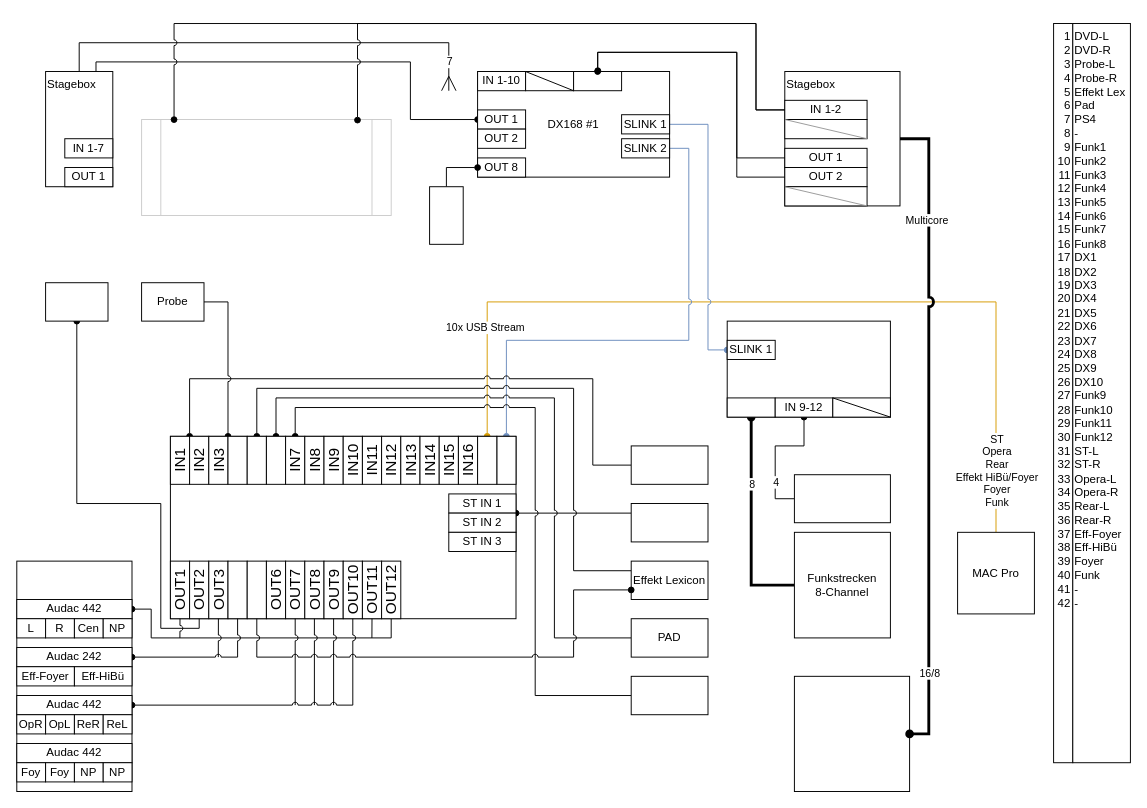
This 1147x808 diagram has some shape labels left out. The box of each missing label's shape, as (x1, y1, x2, y2) in pixels:
Allen&Heath SQ5: (169, 435, 516, 619)
Bass: (45, 282, 108, 321)
Bühne: (141, 119, 391, 216)
CD1 CD2: (630, 503, 708, 542)
DVD: (630, 445, 708, 484)
DX168 #2: (726, 320, 890, 417)
Endstufen: (16, 560, 132, 792)
Funk: (429, 186, 463, 244)
Funkstrecken 4-Channel: (793, 474, 890, 523)
IN 1-8: (726, 397, 775, 417)
IN 11-14: (525, 71, 574, 91)
IN 13-16: (832, 397, 890, 417)
IN 15-16: (573, 71, 622, 91)
IN 3-16: (784, 119, 867, 139)
IN4: (227, 435, 247, 484)
IN5: (246, 435, 266, 484)
IN6: (265, 435, 286, 484)
Licht-Tonpult Behringer: (793, 675, 910, 792)
OUT 3-8: (784, 186, 867, 206)
OUT4: (227, 560, 247, 619)
OUT5: (246, 560, 266, 619)
PS4: (630, 675, 708, 715)
SLink: (496, 435, 516, 484)
USB: (477, 435, 497, 484)
